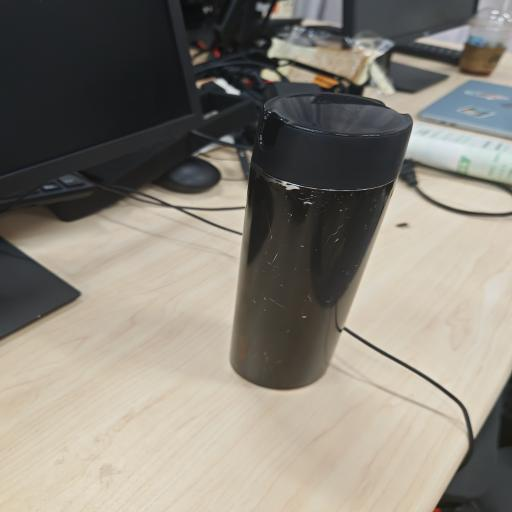laptop: (416, 78, 512, 142)
mouse: (156, 157, 221, 193)
